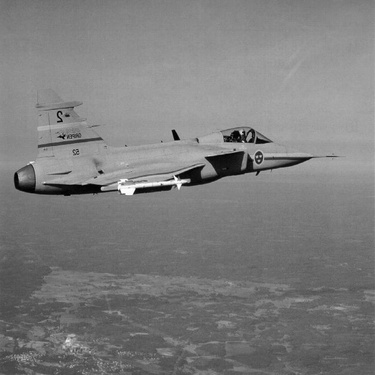airplane: (5, 71, 353, 209)
